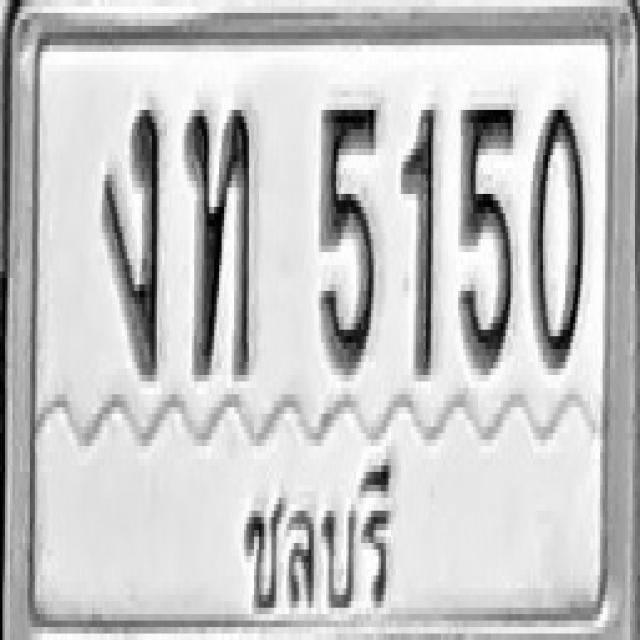0: (529, 97, 584, 368)
1: (400, 100, 437, 378)
16NgorNgu: (100, 97, 160, 375)
32ThorThaHan: (184, 97, 254, 375)
5: (318, 94, 378, 372), (458, 94, 518, 372)
Chonburi: (232, 446, 391, 640)
